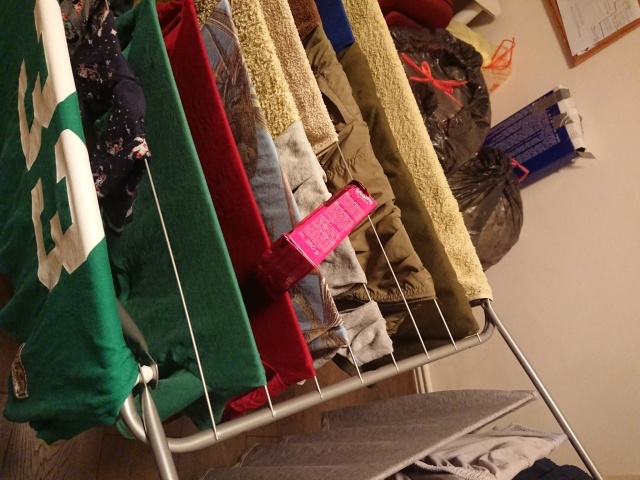Barcaffe Classic Original 225g: (250, 177, 380, 297)
